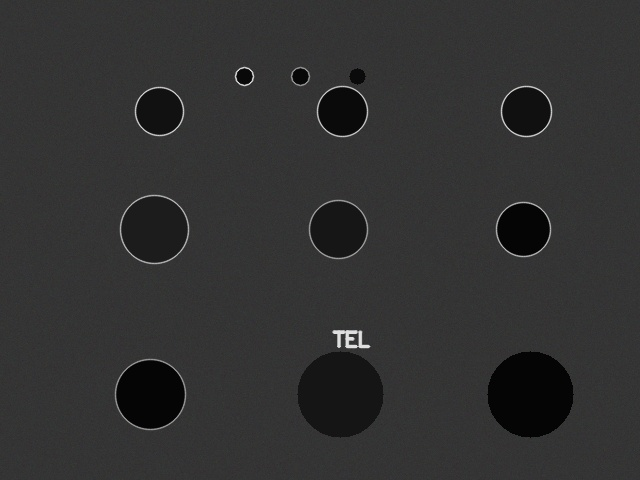hole: (297, 351, 383, 437), (487, 351, 573, 437), (115, 359, 185, 429), (120, 195, 188, 263), (309, 200, 367, 258), (496, 202, 550, 256), (317, 86, 367, 136), (501, 86, 551, 136), (135, 87, 183, 135), (235, 67, 253, 85), (291, 67, 309, 85), (349, 68, 365, 84)
